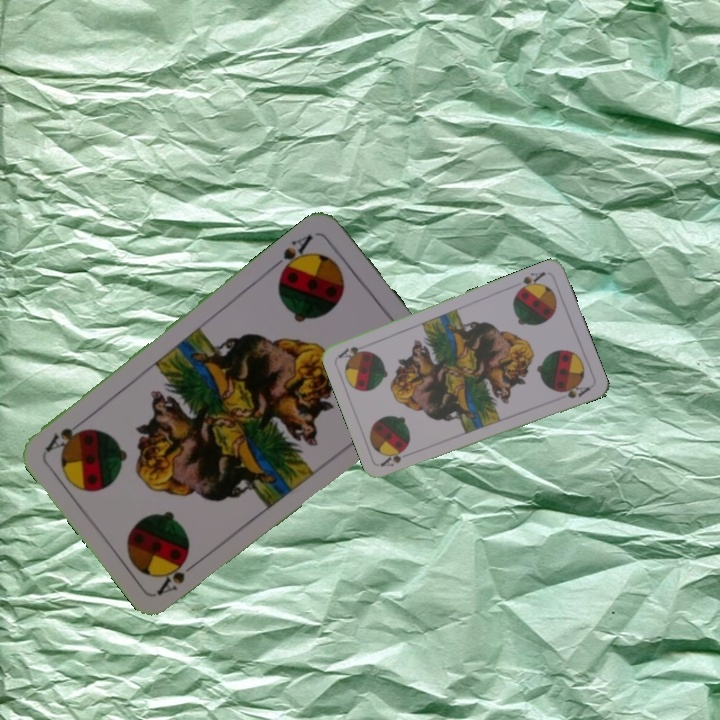SA: (268, 230, 315, 279), (154, 554, 204, 598), (513, 268, 548, 295), (377, 449, 404, 469)
